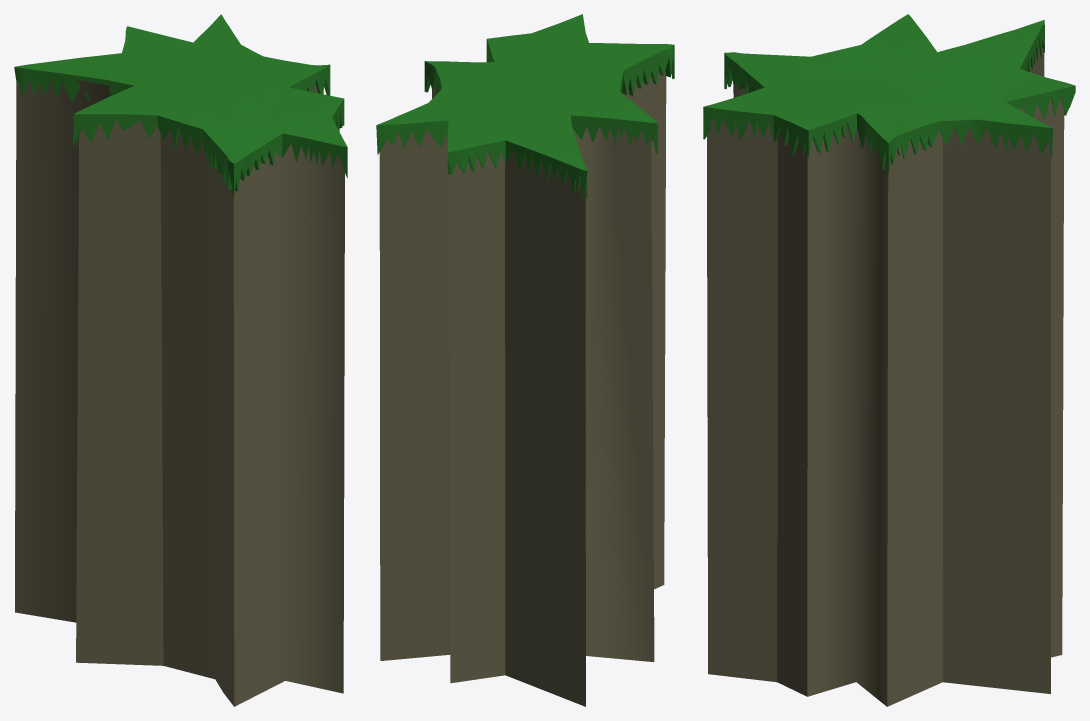
File: grass_layer_star_medium.fbx
3 renders of one model, left to right at view 1: azimuth 30°, elevation 25°; view 2: azimuth 150°, elevation 25°; view 3: azimuth 270°, elevation 25°, orthographic. The views are drawn at different scales.
Parts seen in each view (by area): view 1: grass_layer_star_medium_base, grass_layer_star_medium; view 2: grass_layer_star_medium_base, grass_layer_star_medium; view 3: grass_layer_star_medium_base, grass_layer_star_medium.
Boxes of the visible parts, <box> form: grass_layer_star_medium_base: <box>15,79,344,706</box>; grass_layer_star_medium: <box>14,14,347,197</box>; grass_layer_star_medium_base: <box>379,70,666,706</box>; grass_layer_star_medium: <box>376,14,674,198</box>; grass_layer_star_medium_base: <box>706,45,1064,706</box>; grass_layer_star_medium: <box>703,14,1075,174</box>.
Size of the model in its own units: 750 by 1599 by 941.
